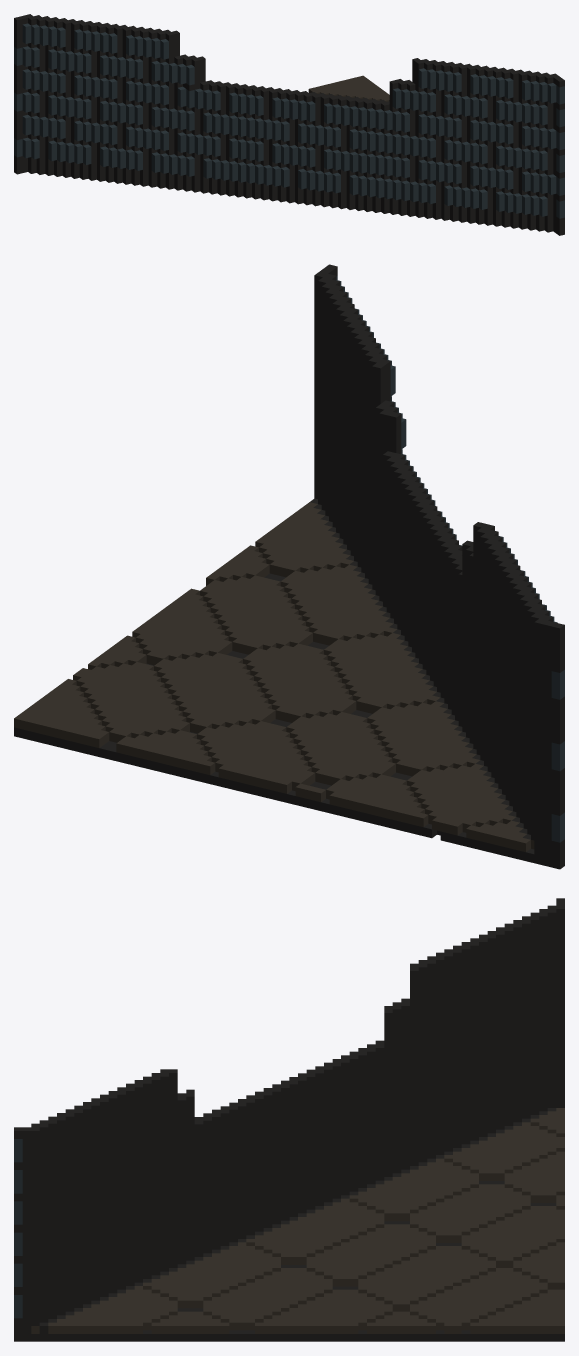
The model's file is half_base_flanks.obj.
3 views of the same model, one above another, from view 1: azimuth 30°, elevation 25°; view 2: azimuth 150°, elevation 25°; view 3: azimuth 270°, elevation 25° (orthographic). The views are drawn at different scales.
Size of the model in its own units: 6.4 by 2.7 by 6.4.
1 material, 1 textured.
